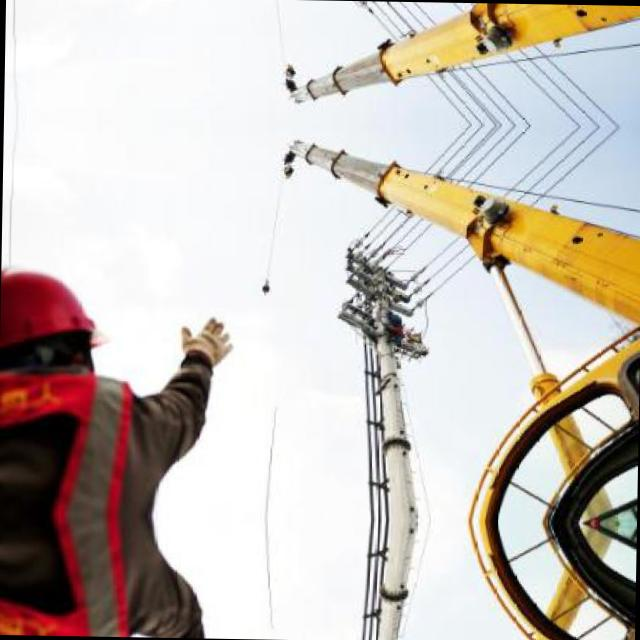helmet: (0, 257, 104, 405)
